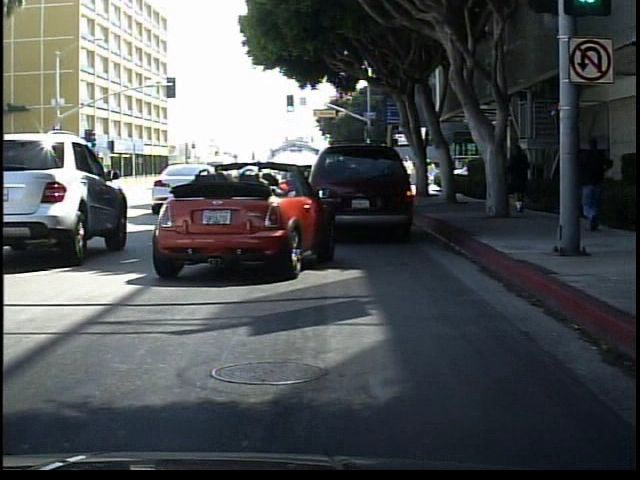person: (575, 132, 623, 239), (504, 141, 535, 214)
